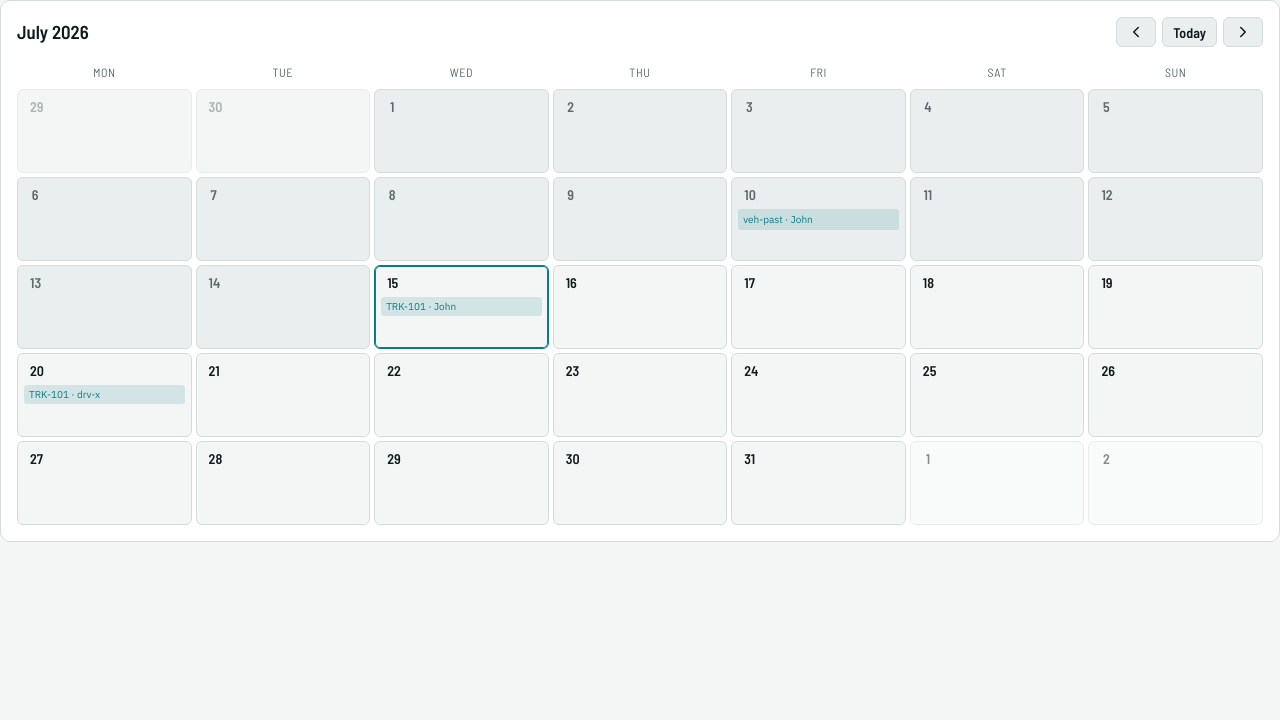
Scenario: AllocationCalendar › goes back a month and returns via the Today button
What coordinates should you click on to do the following:
click the button named "previous month"
I would click on:
 (1136, 32)
Its box is [1116,17,1156,47].
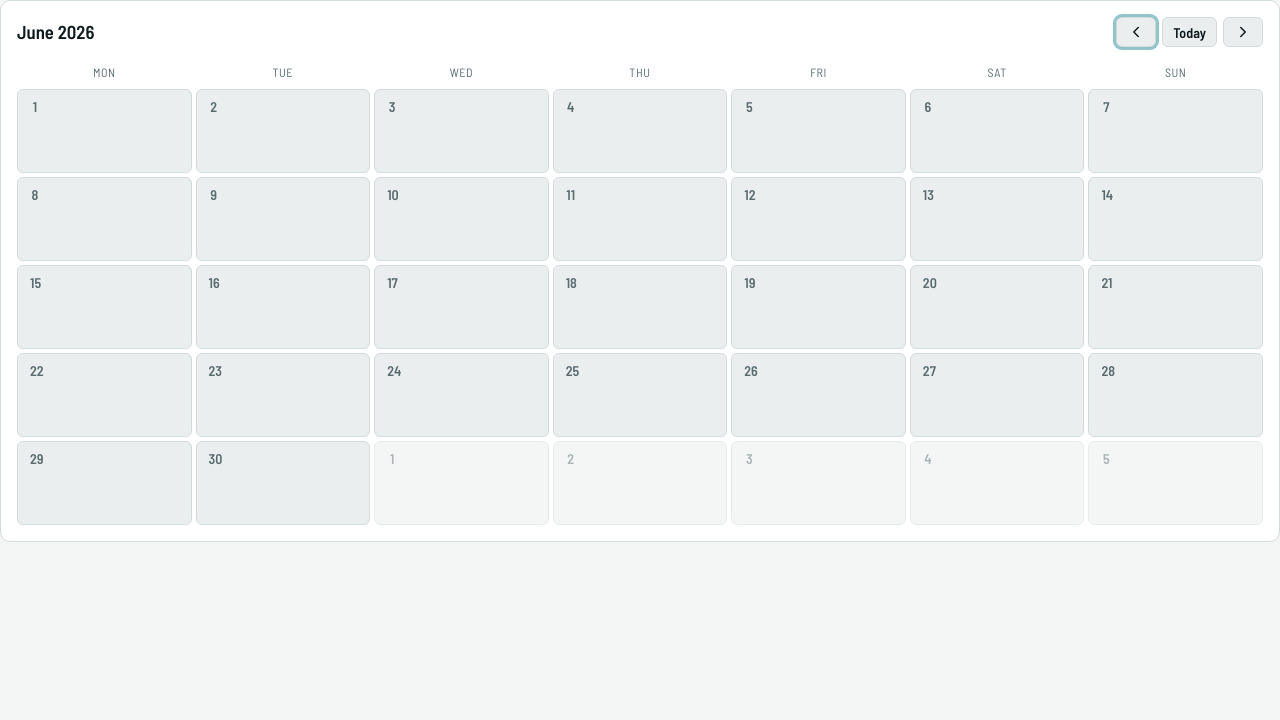
Result: the heading "June 2026" is shown at [17,21,94,43]
What coordinates should you click on to do the following:
click the button "Today"
I would click on:
 (1190, 32)
Its box is [1162,17,1217,47].
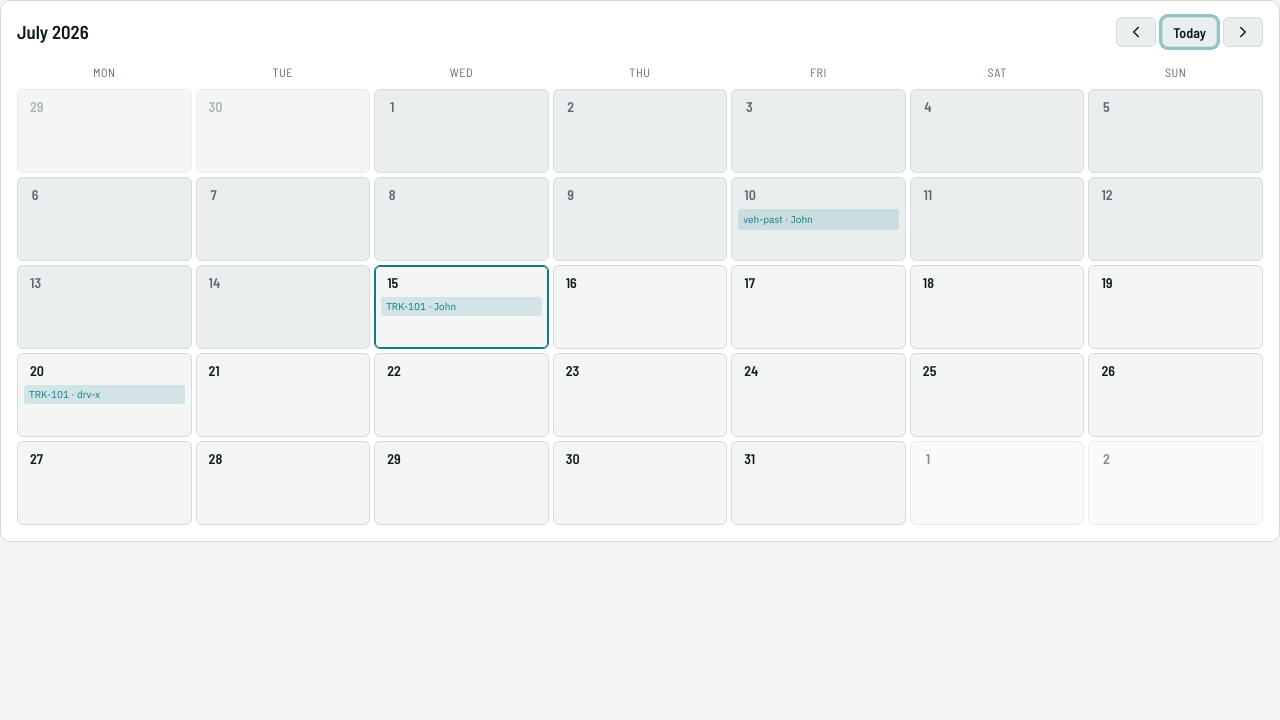
Result: the heading "July 2026" is shown at [17,21,89,43]
